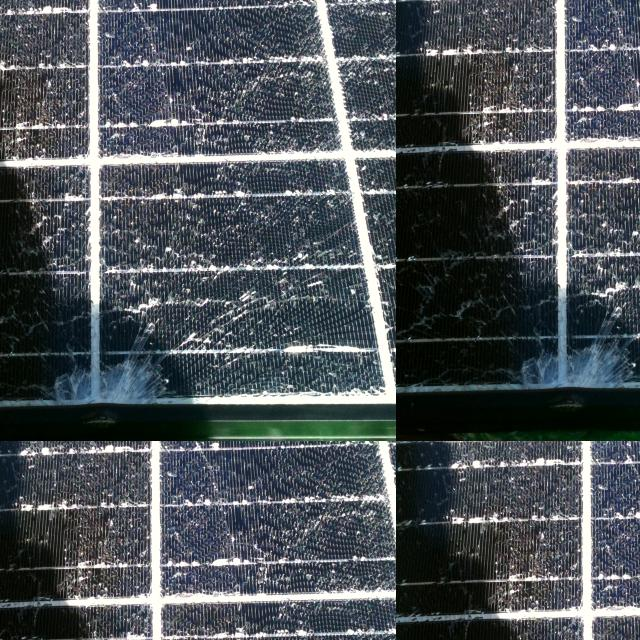crack: (396, 195, 640, 441)
dust: (196, 220, 324, 301), (0, 441, 42, 469), (0, 441, 29, 475), (0, 478, 22, 516), (0, 479, 21, 517), (0, 475, 19, 515), (7, 441, 42, 459), (0, 441, 17, 473), (0, 441, 36, 456), (0, 441, 41, 454), (0, 441, 32, 450), (0, 441, 28, 451), (0, 441, 25, 450), (0, 441, 24, 450), (0, 441, 20, 450)
